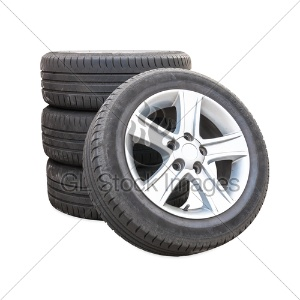tire: (81, 67, 273, 256), (37, 104, 196, 165), (44, 158, 193, 221), (40, 51, 195, 109)
